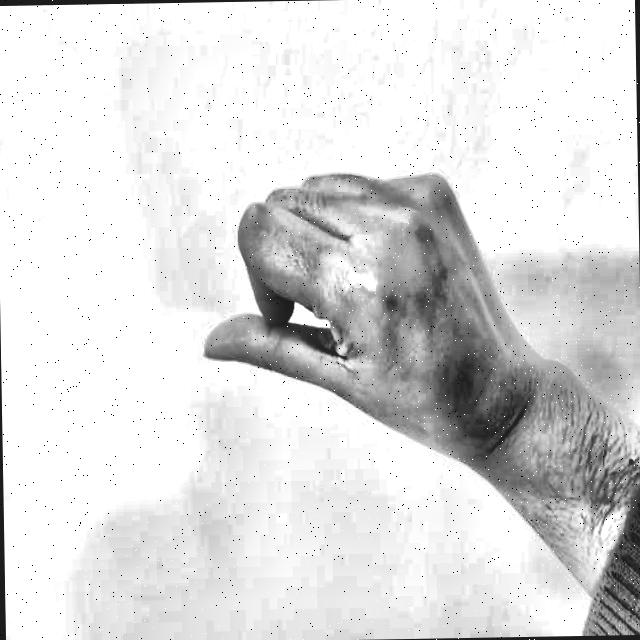Ay: (181, 117, 495, 520)
